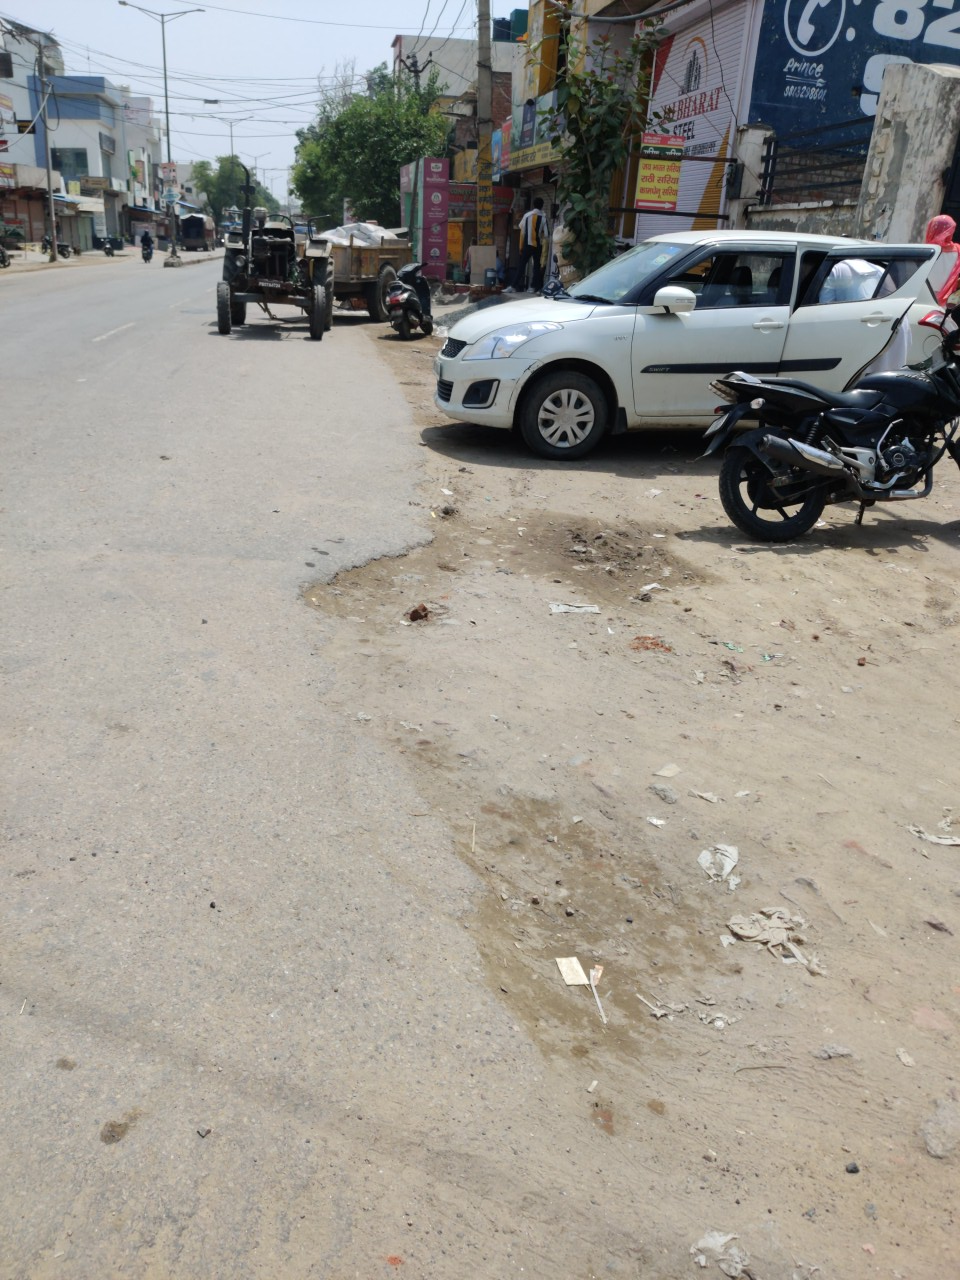tractor: (214, 161, 415, 341)
